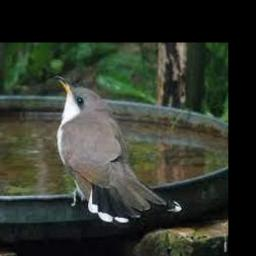Cuckoo: (53, 76, 181, 222)
